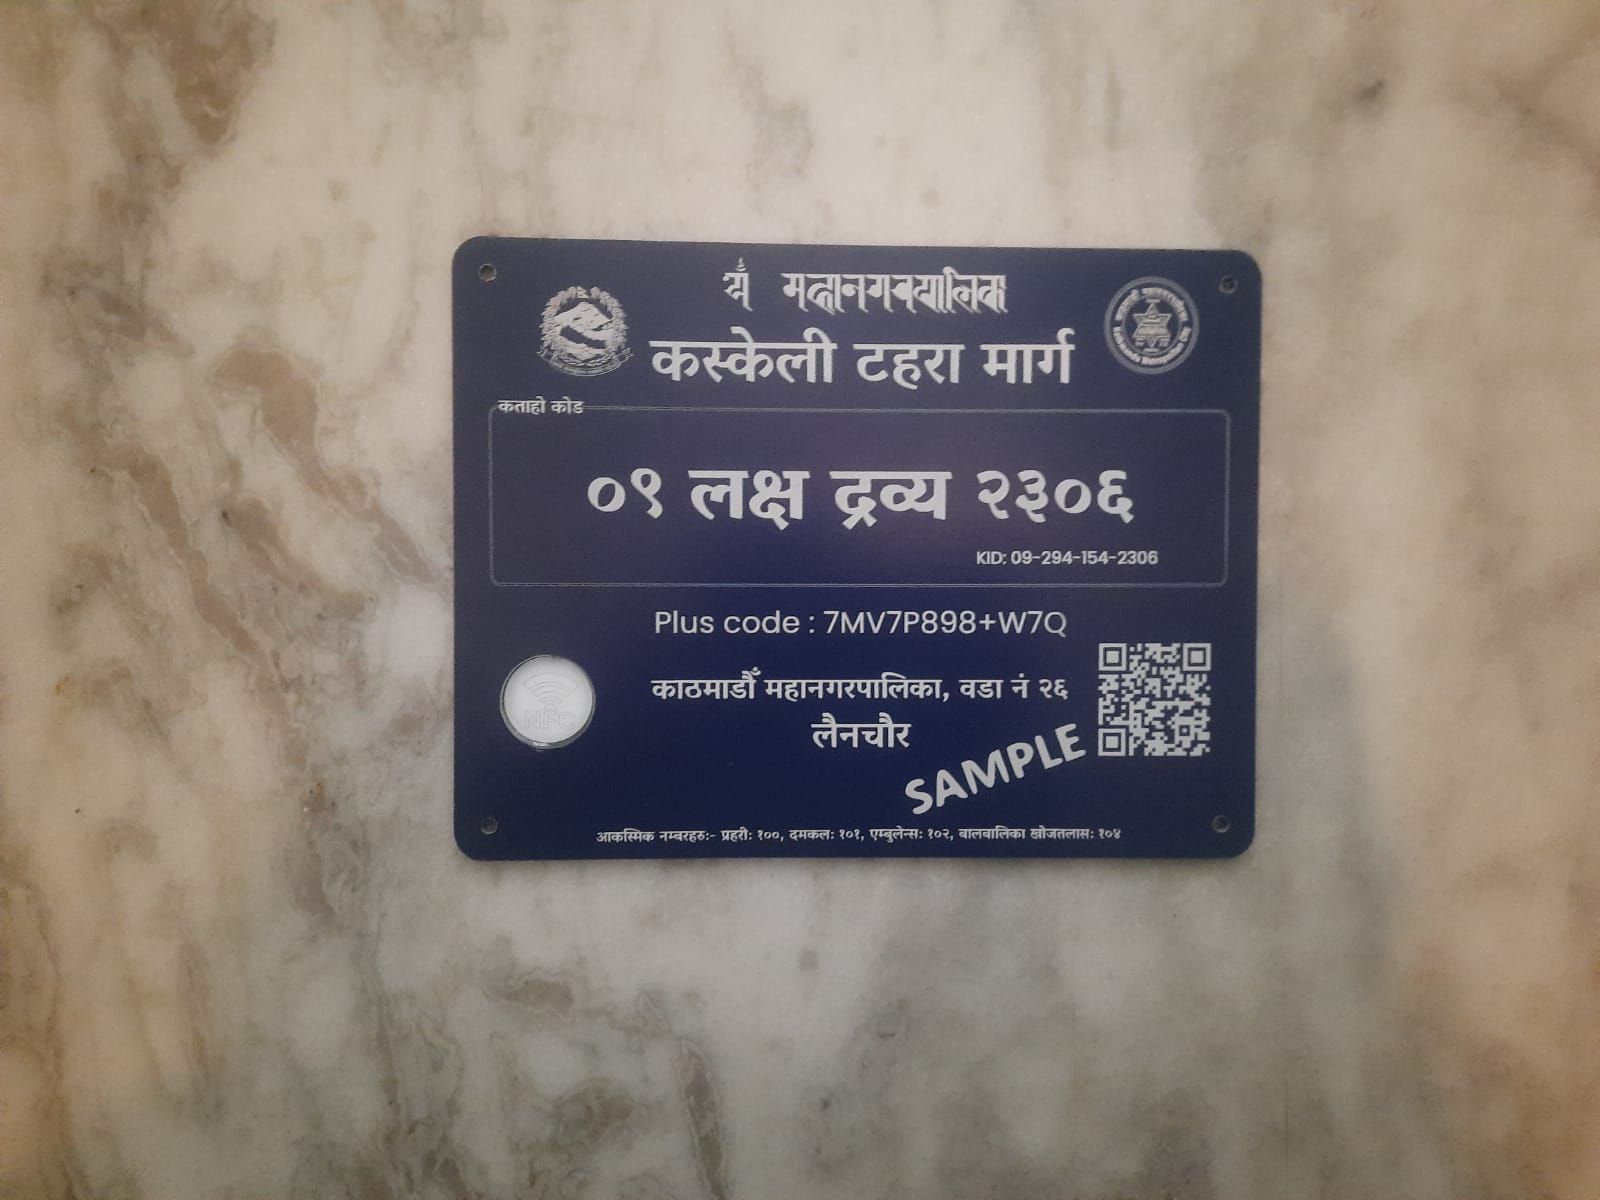Plate: (449, 233, 1269, 867)
